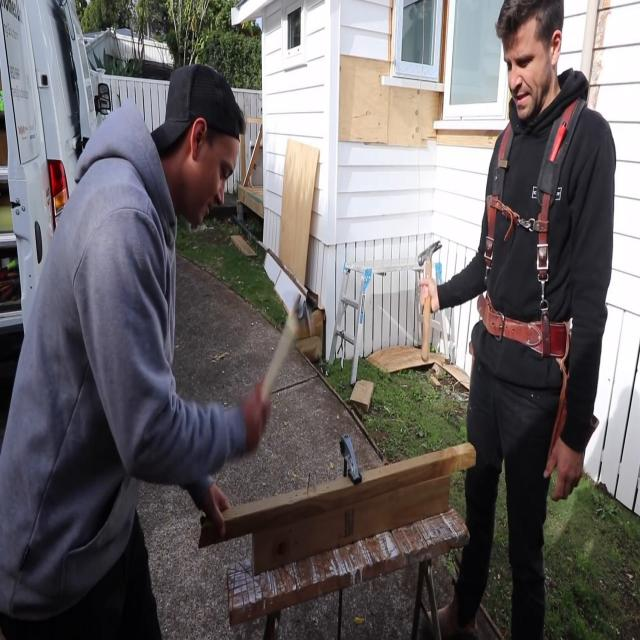hammer: (418, 240, 442, 362)
